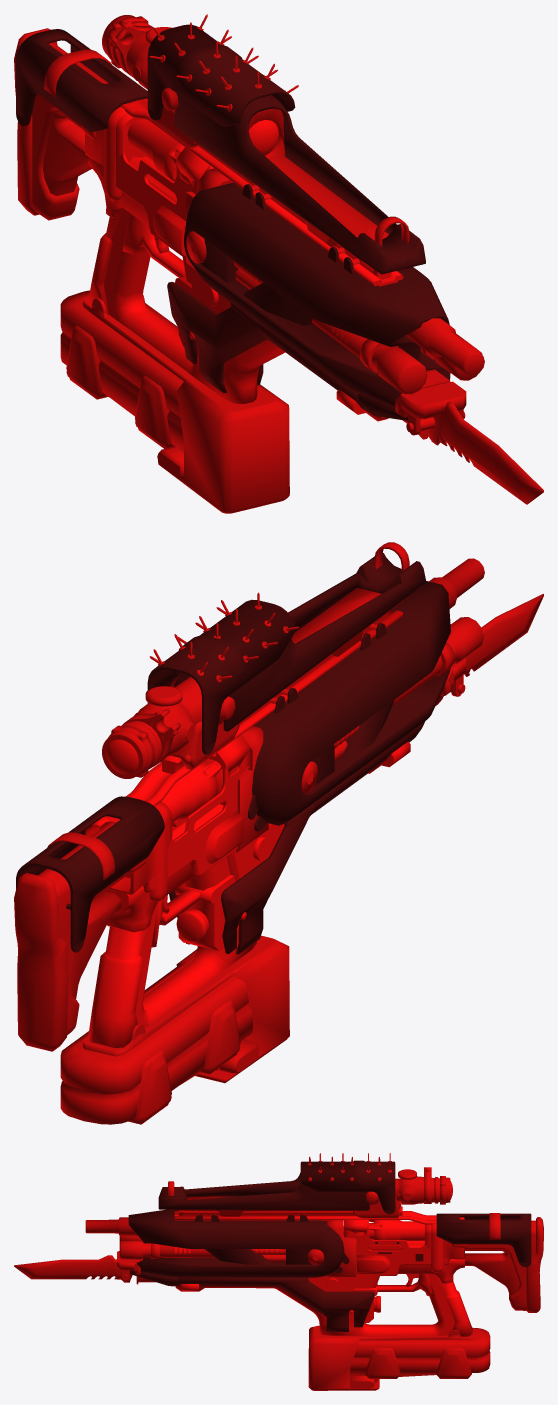
The model's file is Plan C.fbx.
The picture shows the model from 3 angles, top to bottom: view 1: azimuth 30°, elevation 25°; view 2: azimuth 150°, elevation 25°; view 3: azimuth 270°, elevation 25°; orthographic projection. The views are drawn at different scales.
Parts seen in each view (by area): view 1: Plan-C; view 2: Plan-C; view 3: Plan-C.
Part boxes in pixels (x1,y1,x2,y2): Plan-C: [14, 14, 543, 513]; Plan-C: [14, 542, 543, 1124]; Plan-C: [14, 1153, 543, 1390].
Size of the model in its own units: 11.47 by 40.48 by 85.98.
